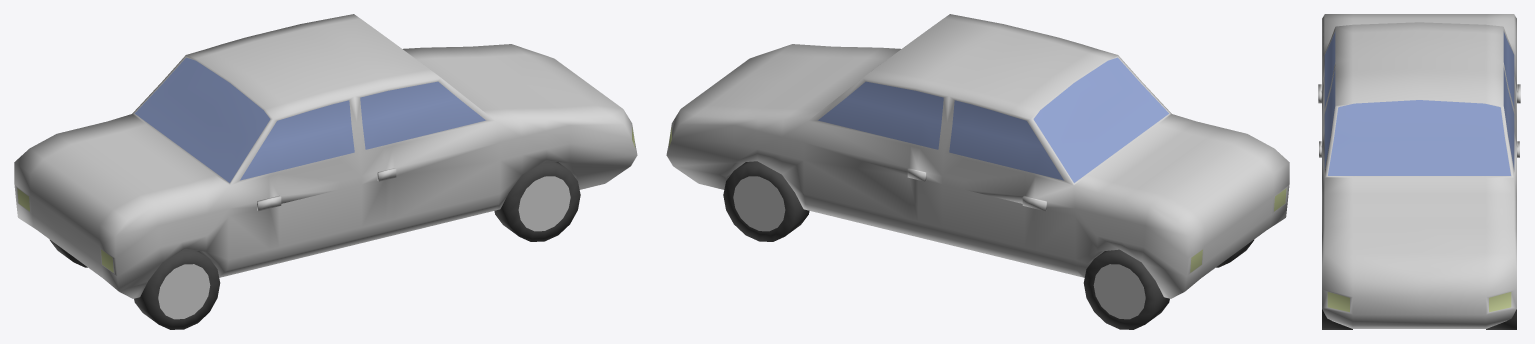
Rendered from car1.fbx.
3 views of the same model, side by side, from view 1: azimuth 30°, elevation 25°; view 2: azimuth 150°, elevation 25°; view 3: azimuth 270°, elevation 25° (orthographic). The views are drawn at different scales.
Visible parts, largest first — view 1: Cube; view 2: Cube; view 3: Cube.
Part boxes in pixels (bbox=[...]): Cube: bbox=[14, 14, 637, 329]; Cube: bbox=[666, 14, 1289, 329]; Cube: bbox=[1318, 14, 1520, 329].
Bounding box in the file's own units: 5.62 × 1.91 × 1.91.
